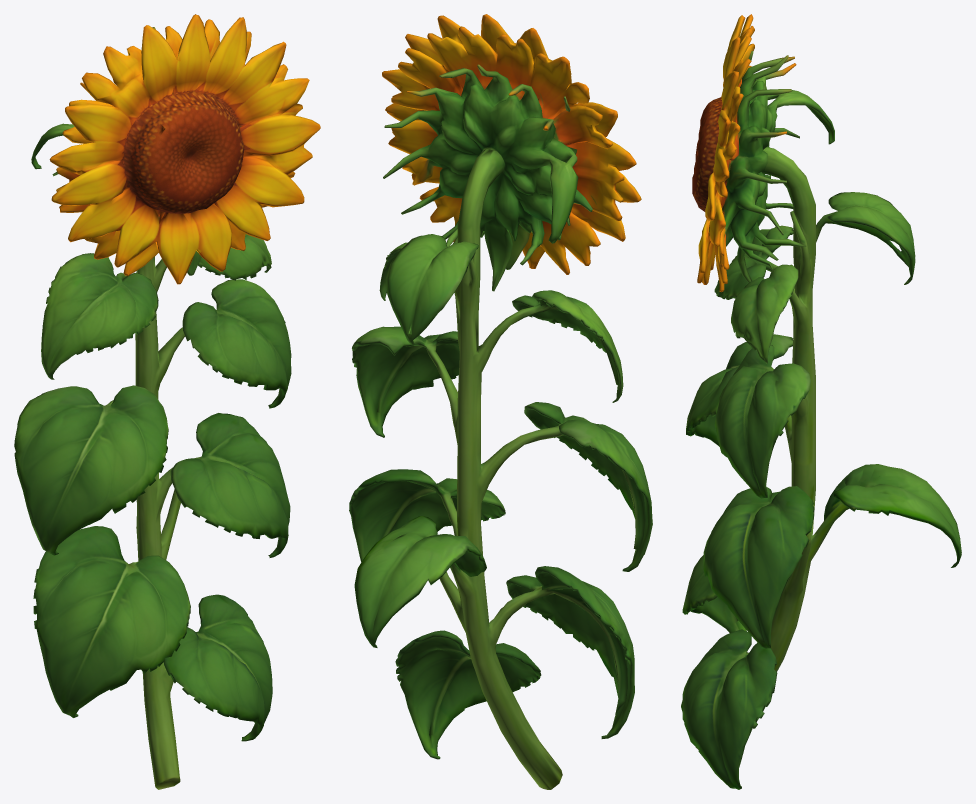
Rendered from sunflower.glb.
3 views of the same model, side by side, from view 1: azimuth 30°, elevation 25°; view 2: azimuth 150°, elevation 25°; view 3: azimuth 270°, elevation 25° (orthographic). The views are drawn at different scales.
Parts seen in each view (by area): view 1: tripo_node_ae7500cc-e98b-4e15-bf73-59e9ab4486cd; view 2: tripo_node_ae7500cc-e98b-4e15-bf73-59e9ab4486cd; view 3: tripo_node_ae7500cc-e98b-4e15-bf73-59e9ab4486cd.
Boxes of the visible parts, box(x1,y1,x2,y2) form: tripo_node_ae7500cc-e98b-4e15-bf73-59e9ab4486cd: box(14, 14, 320, 789); tripo_node_ae7500cc-e98b-4e15-bf73-59e9ab4486cd: box(349, 14, 652, 789); tripo_node_ae7500cc-e98b-4e15-bf73-59e9ab4486cd: box(681, 14, 961, 789).
Size of the model in its own units: 0.3814 by 0.9795 by 0.3354.
1 material, 1 textured.
